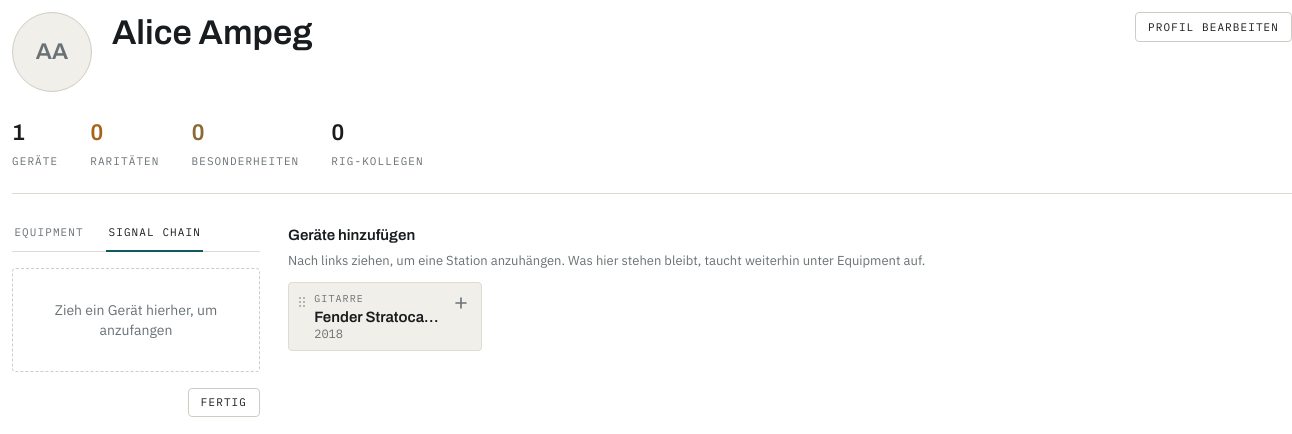
it: profile/[id].vue - Signalkette › kommt mit "Fertig" wieder aus dem Bearbeitungsmodus heraus
The width and height of the screenshot is (1292, 434).
Expected: the element that starts with "Geräte hinzufügen" is shown, [288,227,925,351]
Click the button "Fertig".
click(224, 403)  # box [188,388,260,417]
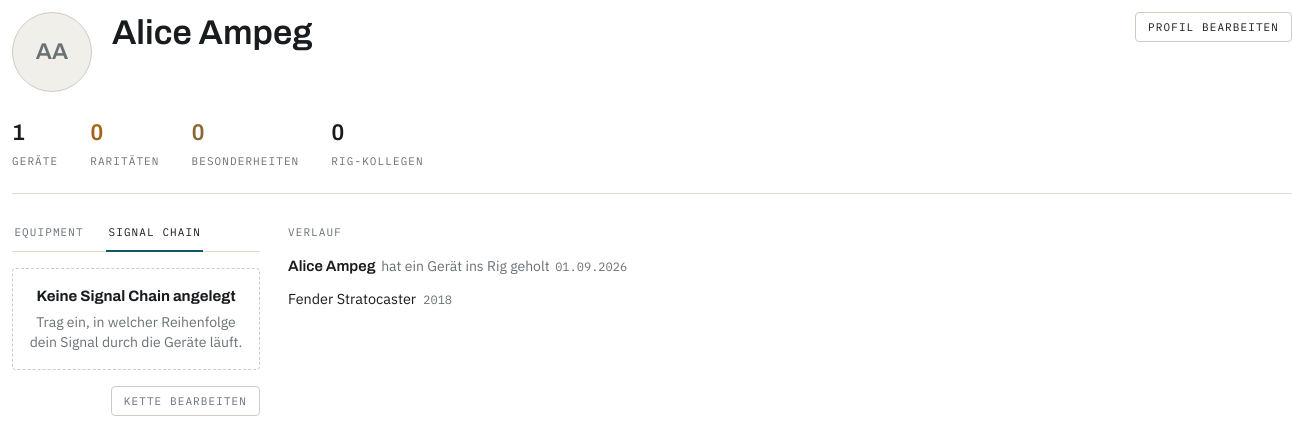
Result: the text "Verlauf" is shown at [288,225,342,239]
